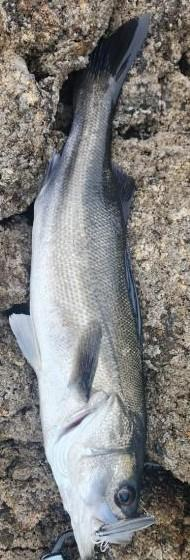fish: (9, 14, 153, 559)
